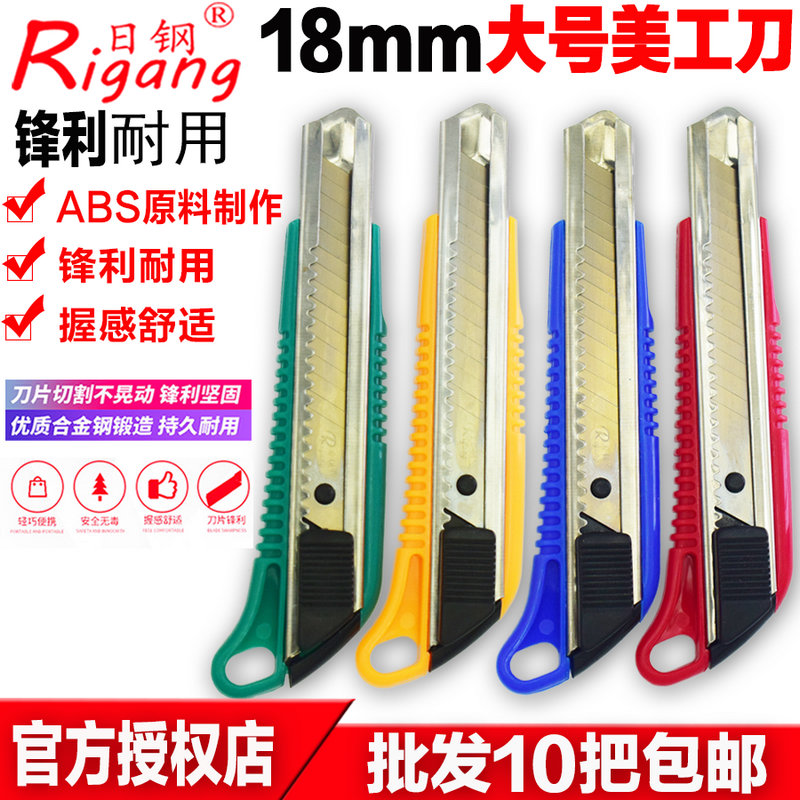cutter: (210, 109, 387, 699), (354, 97, 526, 691), (497, 112, 663, 696), (636, 105, 794, 686)
